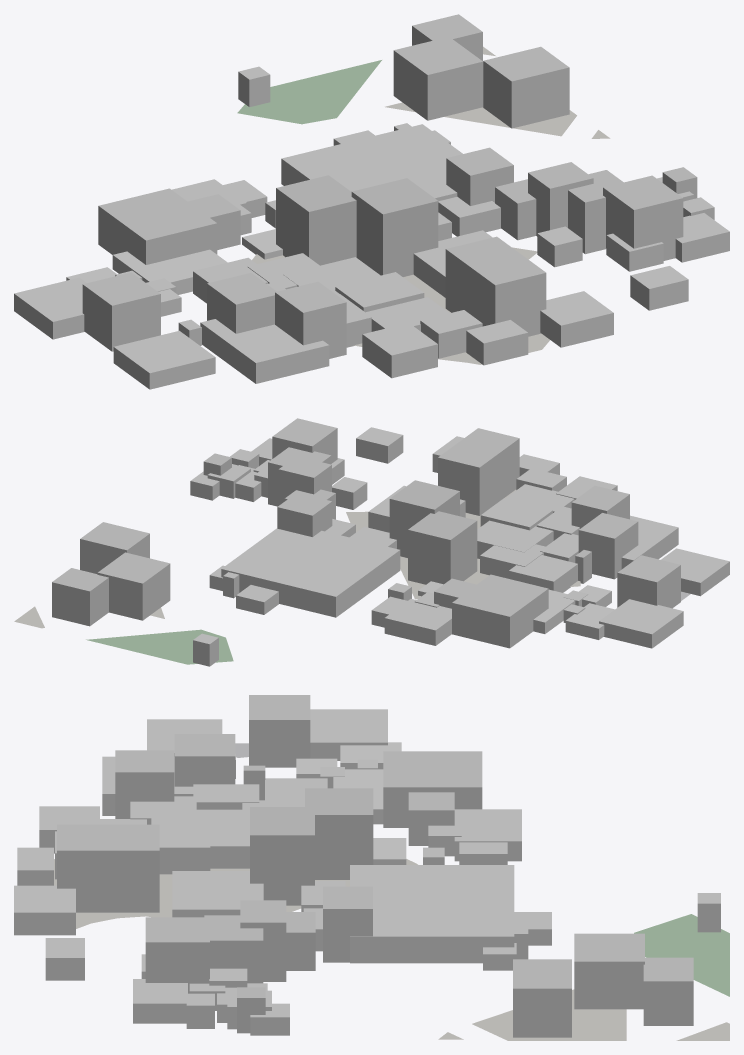
File: 134_102_mid.glb
3 renders of one model, top to bottom at view 1: azimuth 30°, elevation 25°; view 2: azimuth 150°, elevation 25°; view 3: azimuth 270°, elevation 25°, orthographic. The views are drawn at different scales.
Bounding box in the file's own units: 528 × 57.93 × 506.
